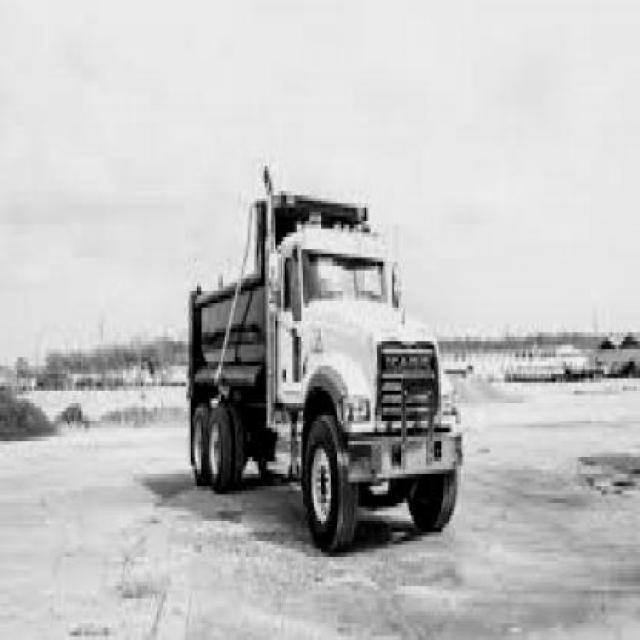Truck- Multi-Axle: (188, 168, 464, 557)
